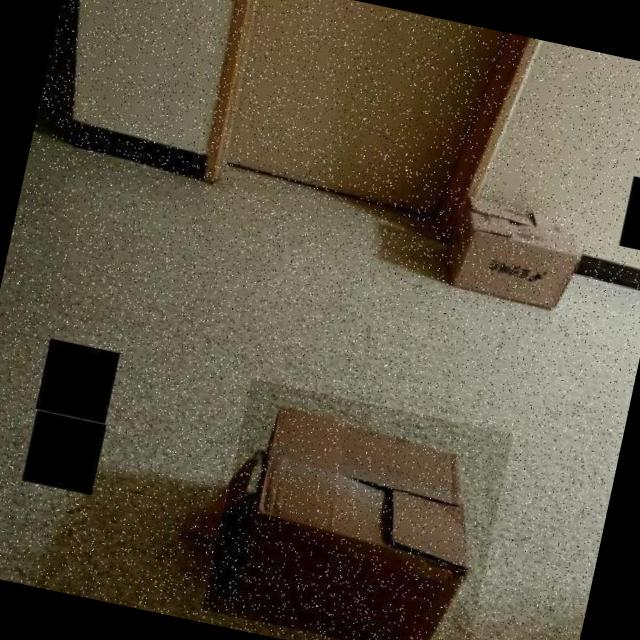box: (202, 377, 513, 640)
